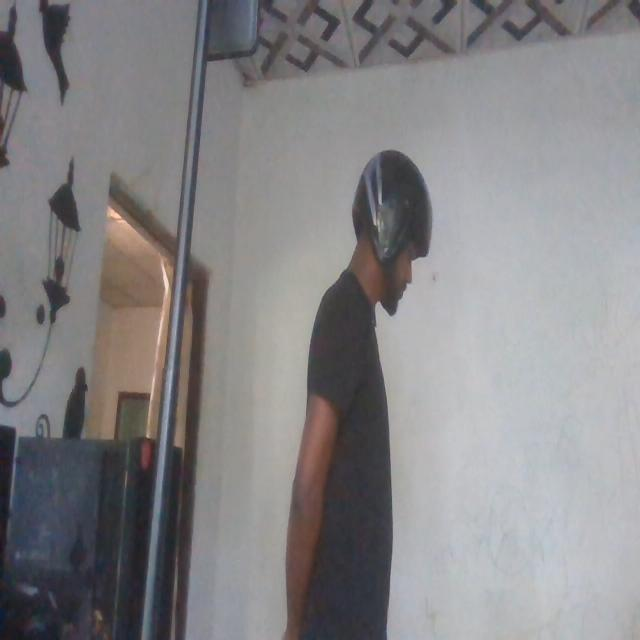Helmet_Wearer: (346, 145, 437, 339)
Person: (288, 138, 439, 640)
